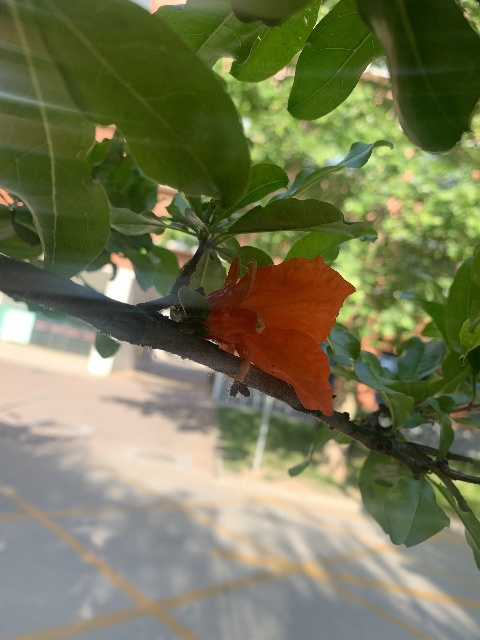flower: (200, 252, 354, 415)
